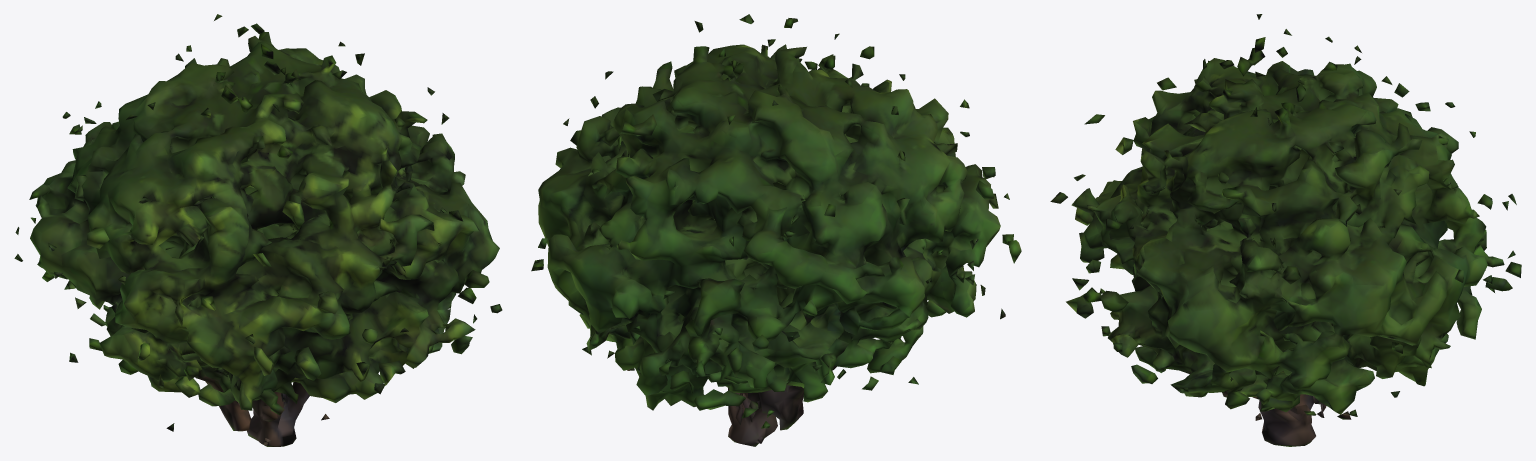
File: AI_ClusteredBush.fbx
3 renders of one model, left to right at view 1: azimuth 30°, elevation 25°; view 2: azimuth 150°, elevation 25°; view 3: azimuth 270°, elevation 25°, orthographic. The views are drawn at different scales.
Parts seen in each view (by area): view 1: Mesh1; view 2: Mesh1; view 3: Mesh1.
Part boxes in pixels (x1,y1,x2,y2): Mesh1: (14,14,502,446); Mesh1: (531,14,1021,446); Mesh1: (1050,14,1521,446).
Bounding box in the file's own units: 175 × 172 × 187.
1 material, 1 textured.
